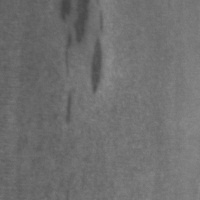inclusion: (59, 0, 106, 107), (87, 34, 108, 99), (60, 84, 81, 126)
